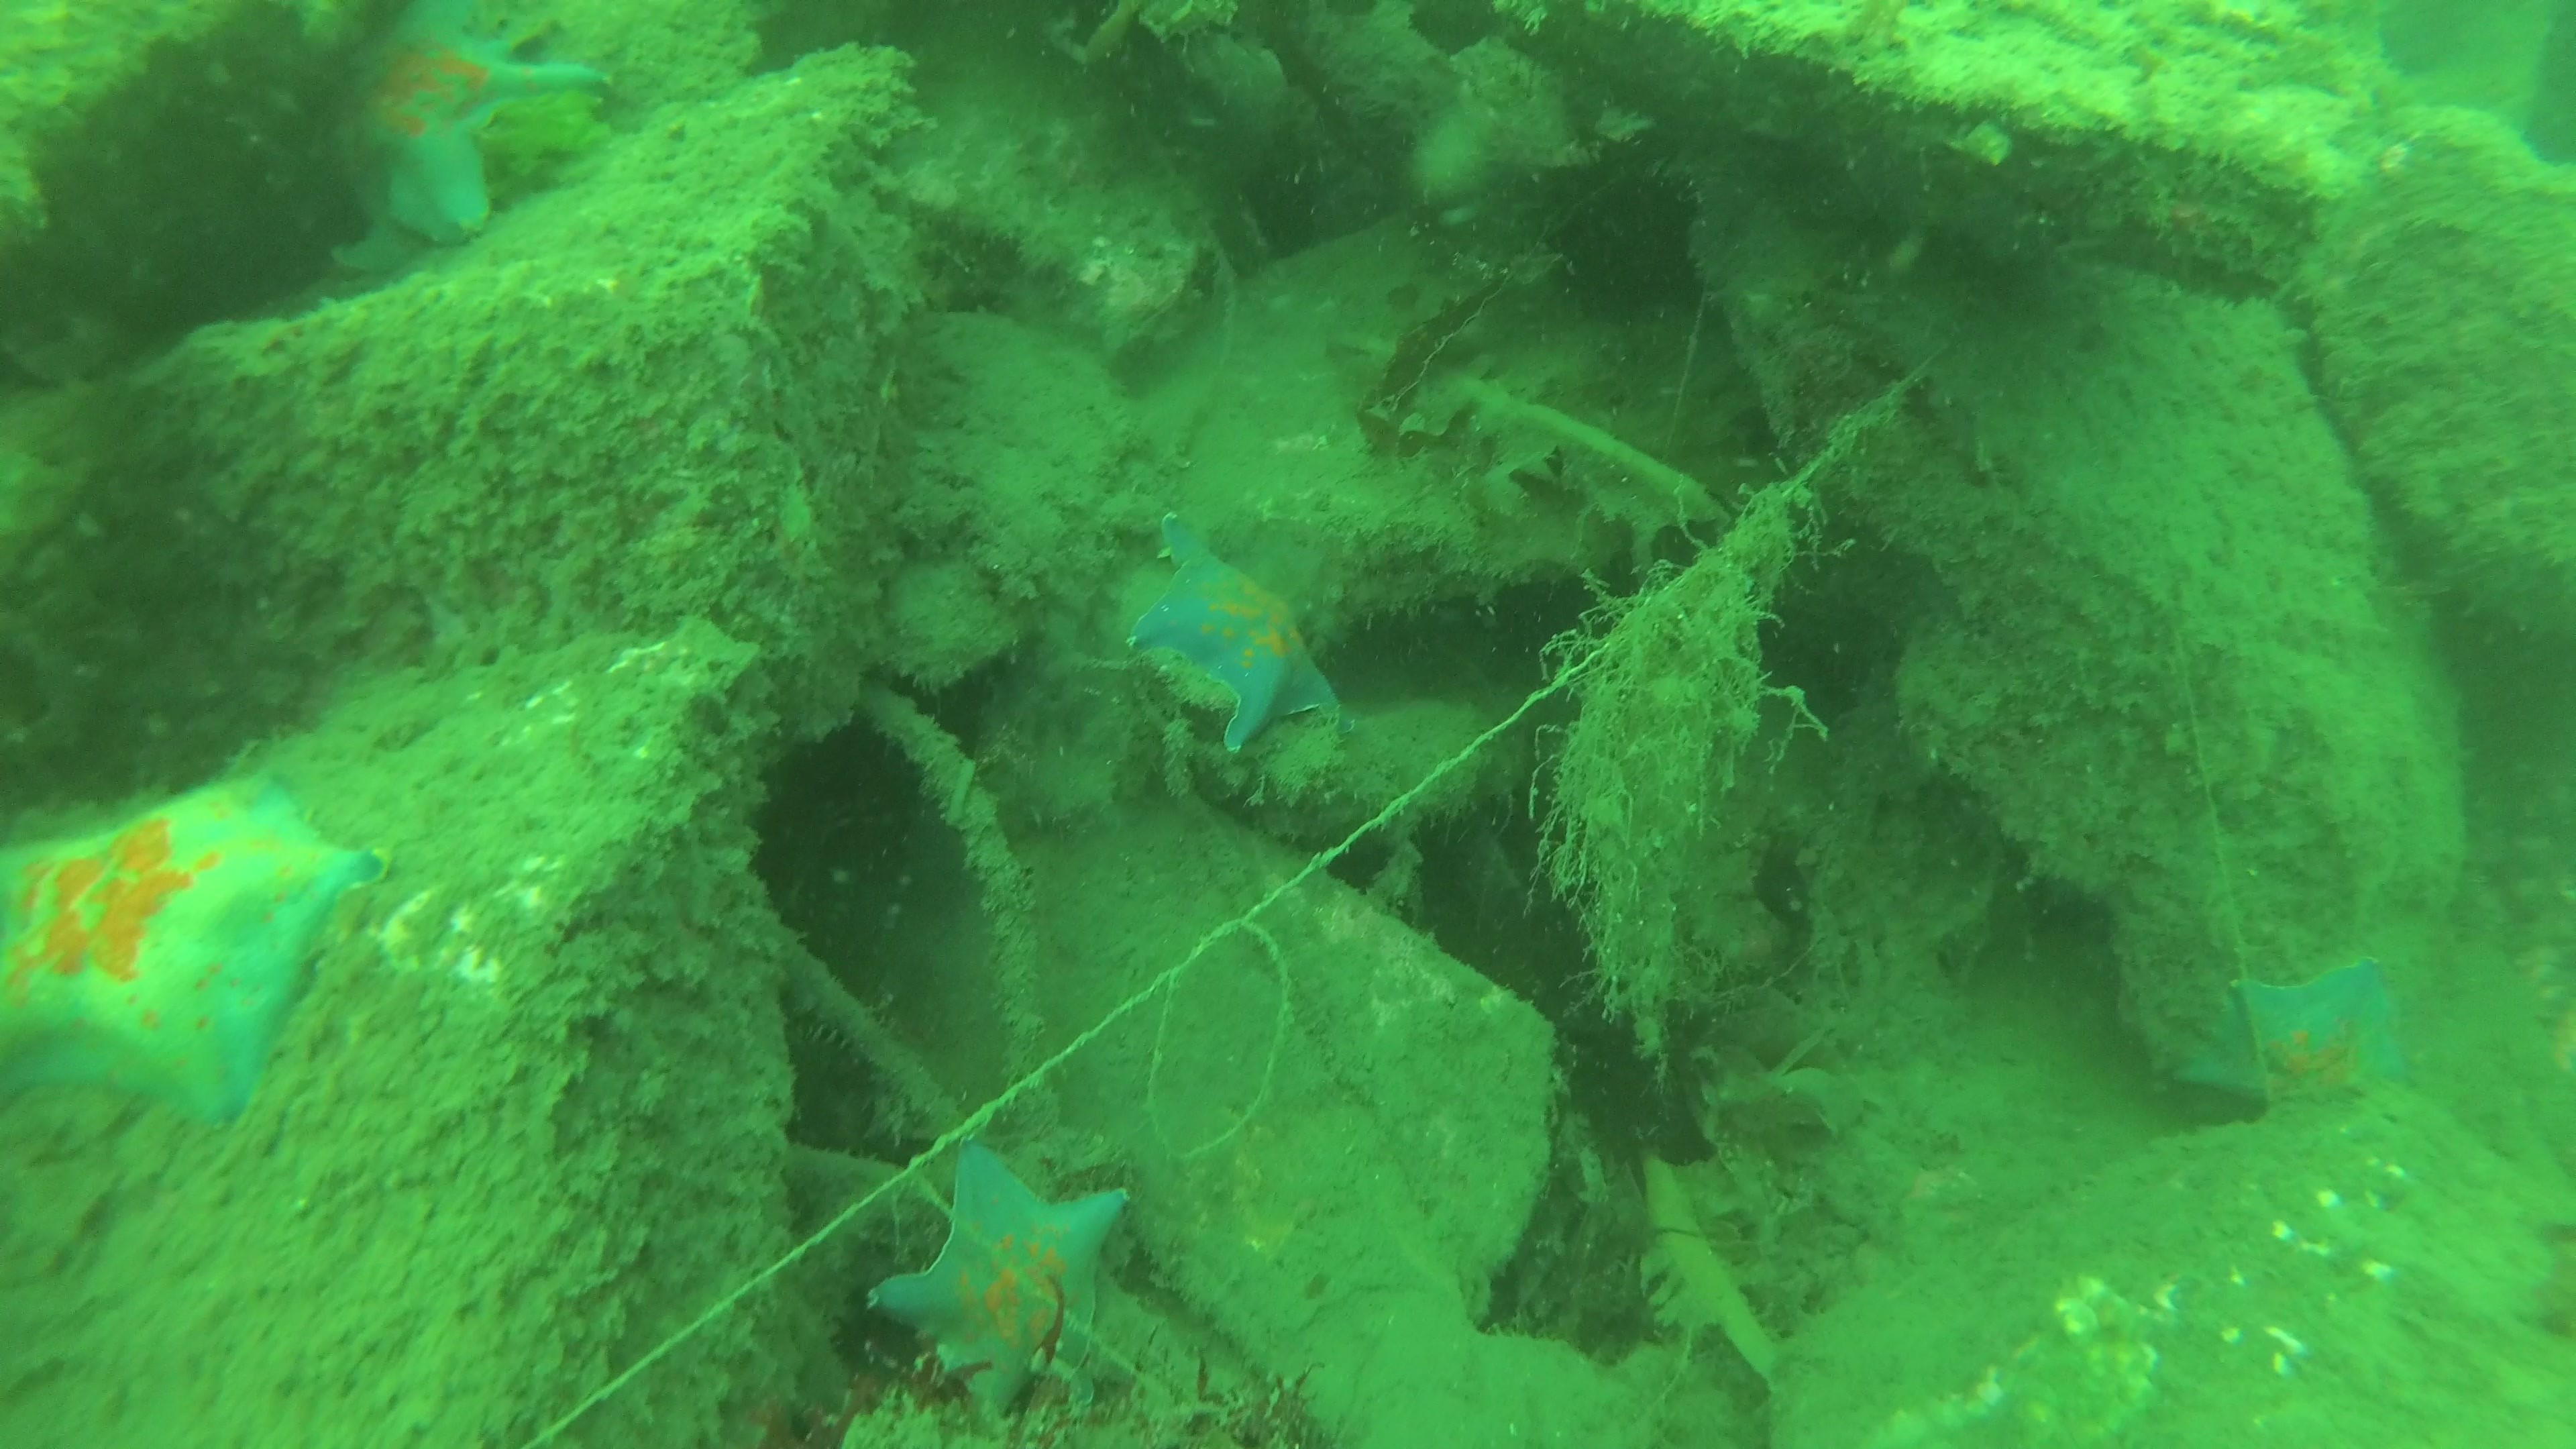starfish: (0, 752, 403, 1131), (264, 0, 616, 244), (860, 1131, 1136, 1438), (1118, 510, 1352, 755), (2162, 936, 2424, 1125)
